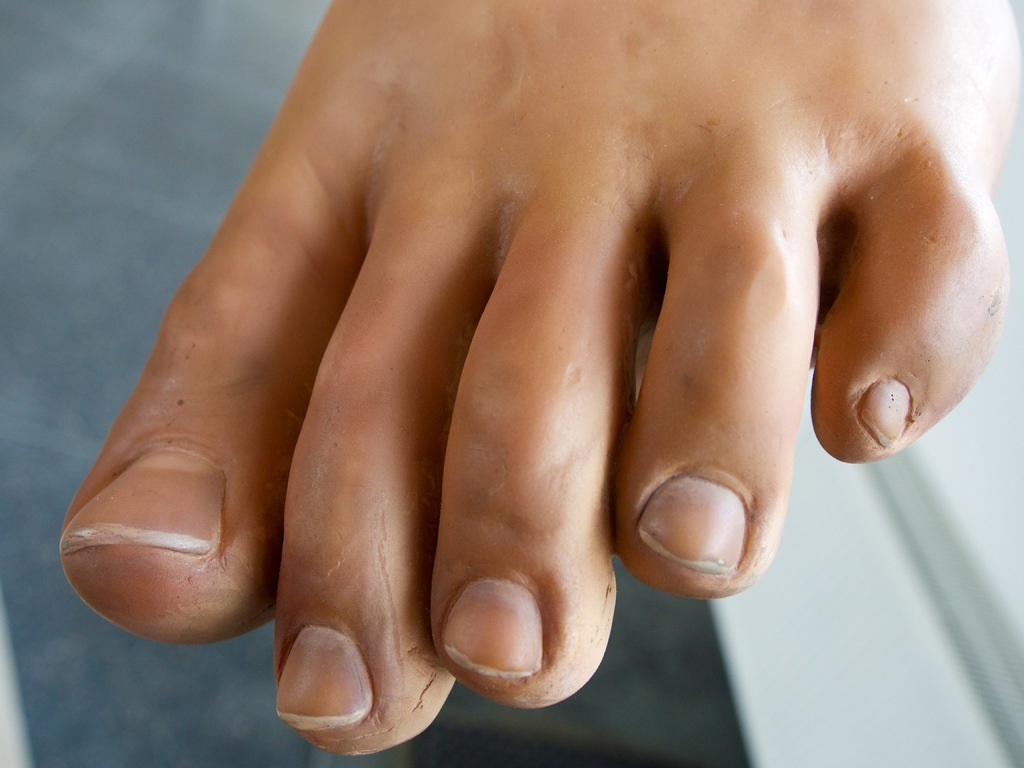Person: (58, 0, 1015, 756)
